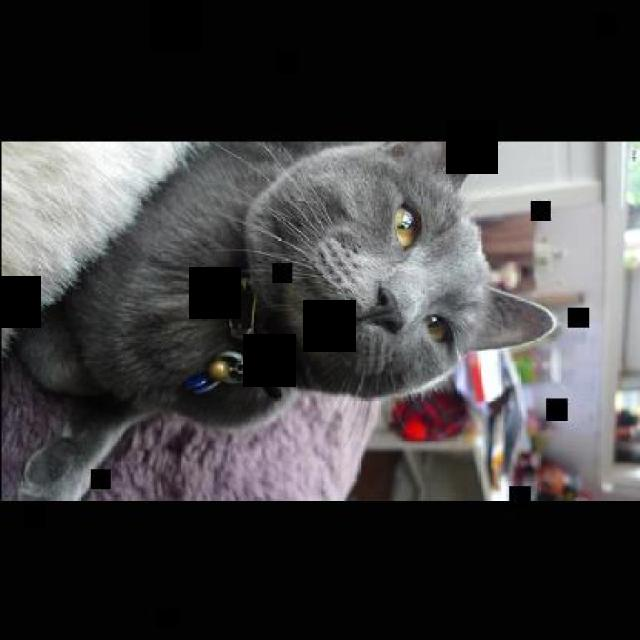unauthorized: (0, 138, 557, 498)
